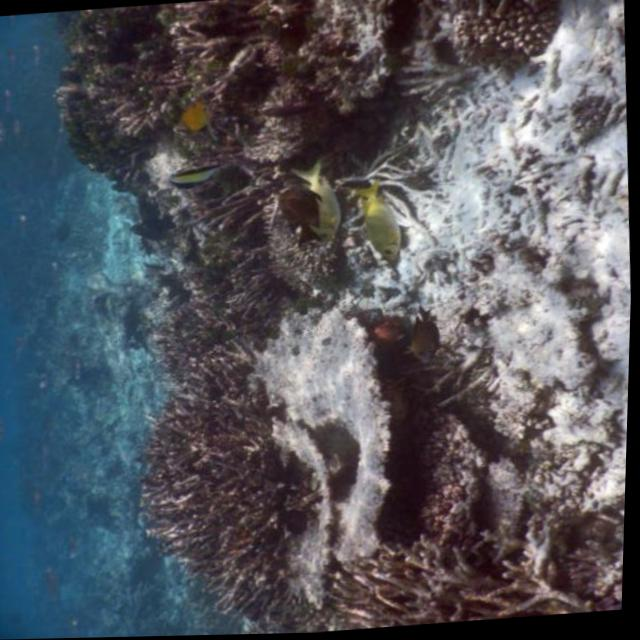Dead Coral: (117, 241, 349, 628), (48, 17, 326, 192), (344, 513, 617, 632), (483, 104, 635, 267), (332, 146, 422, 243)
